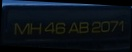character: (13, 22, 29, 35), (29, 21, 40, 34), (55, 22, 65, 34), (68, 21, 78, 33), (78, 21, 88, 33), (44, 21, 53, 33), (91, 20, 100, 32), (100, 20, 109, 32), (110, 19, 117, 32), (119, 19, 123, 31)
